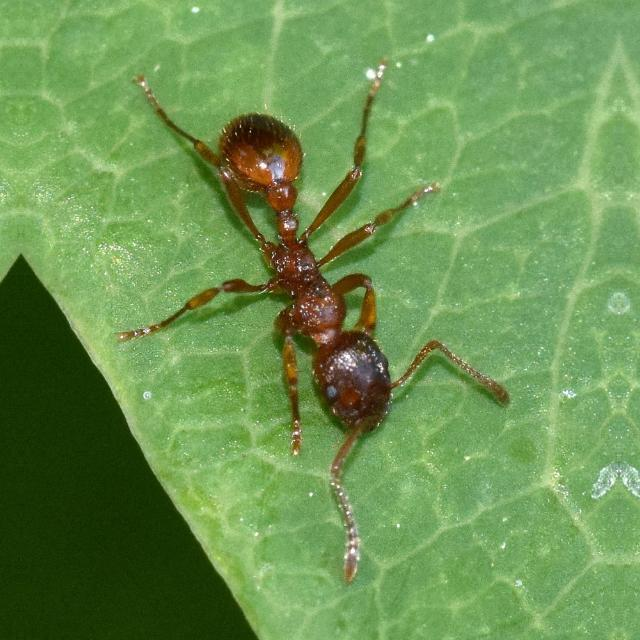Myrmica: (147, 36, 490, 454)
